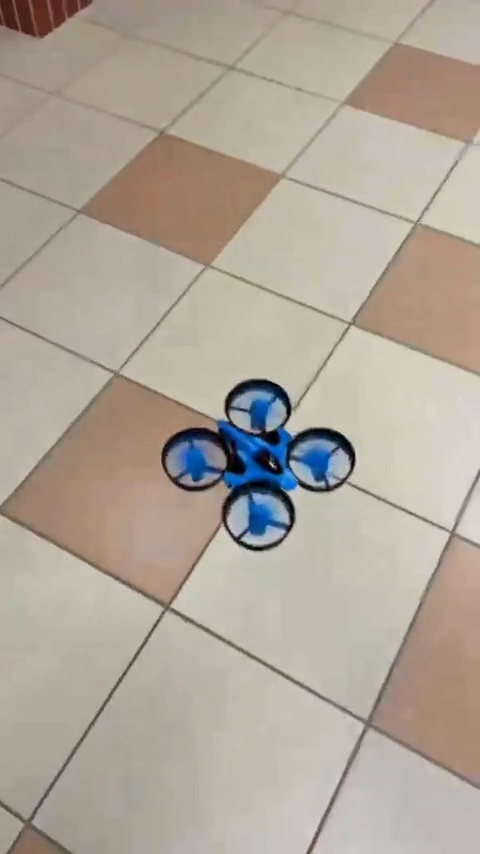drone: (165, 375, 357, 550)
